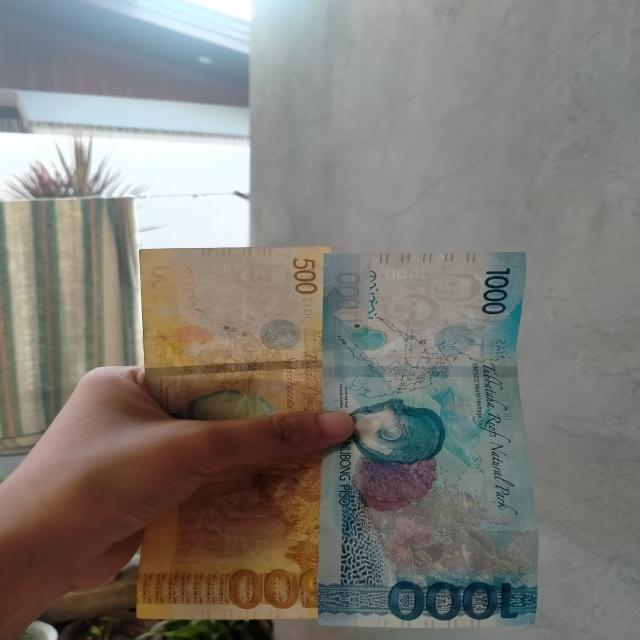security_thread: (144, 359, 323, 377), (322, 365, 518, 378)
see_through_mark: (359, 267, 378, 320), (184, 263, 199, 318)
value: (388, 580, 521, 621), (227, 567, 320, 609)
value_watermark: (384, 268, 428, 281), (211, 263, 244, 276)
watermark: (378, 271, 495, 334), (196, 262, 293, 320)
